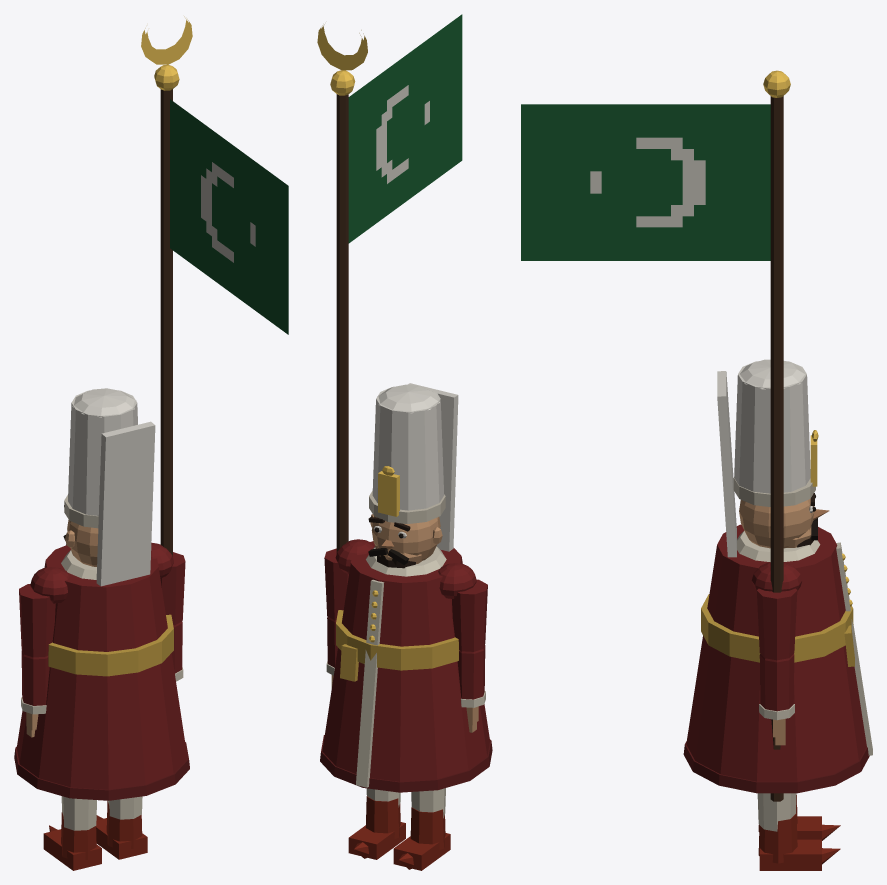
The model's file is sancak-2.glb.
The picture shows the model from 3 angles, left to right: view 1: azimuth 30°, elevation 25°; view 2: azimuth 150°, elevation 25°; view 3: azimuth 270°, elevation 25°; orthographic projection. The views are drawn at different scales.
Parts seen in each view (by area): view 1: govde, bayrak, bas, kolR, kolL, bacakL, bacakR; view 2: govde, bayrak, bas, kolR, kolL, bacakL, bacakR; view 3: bayrak, govde, bas, kolR, bacakR, bacakL.
Part boxes in pixels (x1=…): govde: x1=14, y1=542, x2=189, y2=800; bayrak: x1=170, y1=99, x2=288, y2=334; bas: x1=63, y1=388, x2=155, y2=586; kolR: x1=141, y1=16, x2=192, y2=681; kolL: x1=19, y1=584, x2=55, y2=737; bacakL: x1=43, y1=796, x2=101, y2=870; bacakR: x1=96, y1=796, x2=147, y2=859; govde: x1=320, y1=539, x2=492, y2=792; bayrak: x1=348, y1=14, x2=462, y2=243; bas: x1=368, y1=383, x2=458, y2=568; kolR: x1=317, y1=24, x2=367, y2=688; kolL: x1=452, y1=579, x2=487, y2=732; bacakL: x1=393, y1=788, x2=450, y2=870; bacakR: x1=348, y1=788, x2=405, y2=859; bayrak: x1=521, y1=104, x2=770, y2=260; govde: x1=683, y1=524, x2=872, y2=793; bas: x1=717, y1=359, x2=829, y2=557; kolR: x1=756, y1=70, x2=797, y2=801; bacakR: x1=757, y1=793, x2=840, y2=870; bacakL: x1=758, y1=795, x2=840, y2=840.
Size of the model in its own units: 0.8968 by 4.14 by 1.53.
